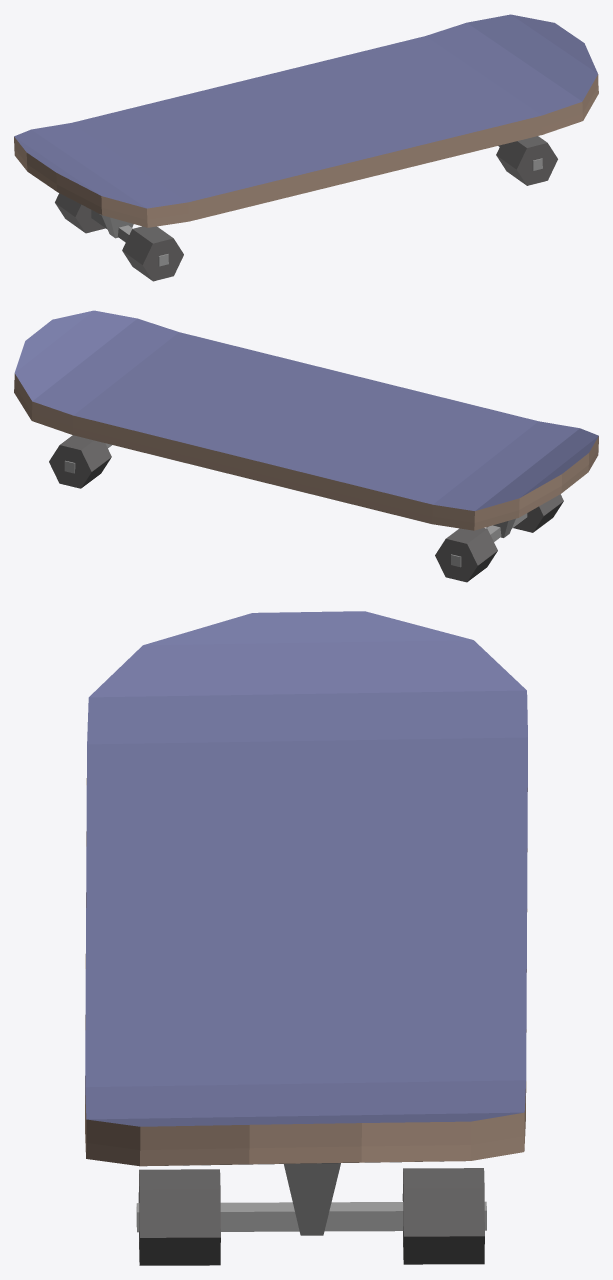
File: Skateboard.fbx
The picture shows the model from 3 angles, top to bottom: view 1: azimuth 30°, elevation 25°; view 2: azimuth 150°, elevation 25°; view 3: azimuth 270°, elevation 25°; orthographic projection. The views are drawn at different scales.
Visible parts, largest first — view 1: Skateboard; view 2: Skateboard; view 3: Skateboard.
Part boxes in pixels (x1,y1,x2,y2): Skateboard: (14,14,598,281); Skateboard: (14,310,598,582); Skateboard: (85,611,527,1265).
Bounding box in the file's own units: 79.06 × 28.64 × 14.81.
